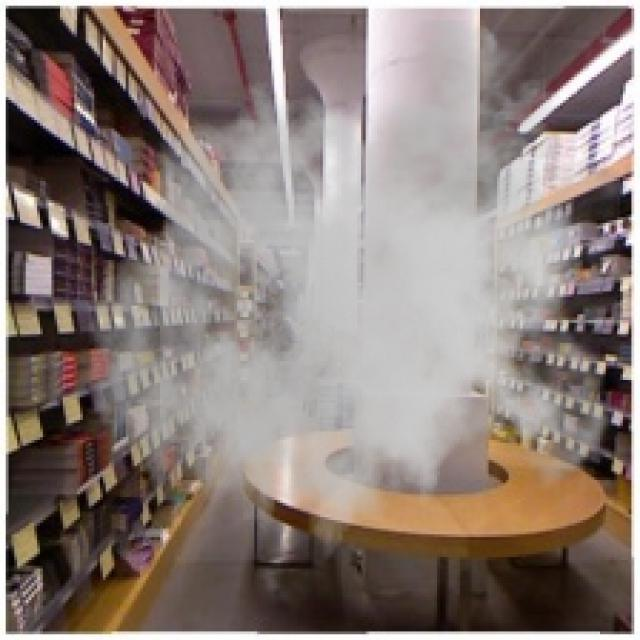Smoke: (85, 20, 620, 580)
